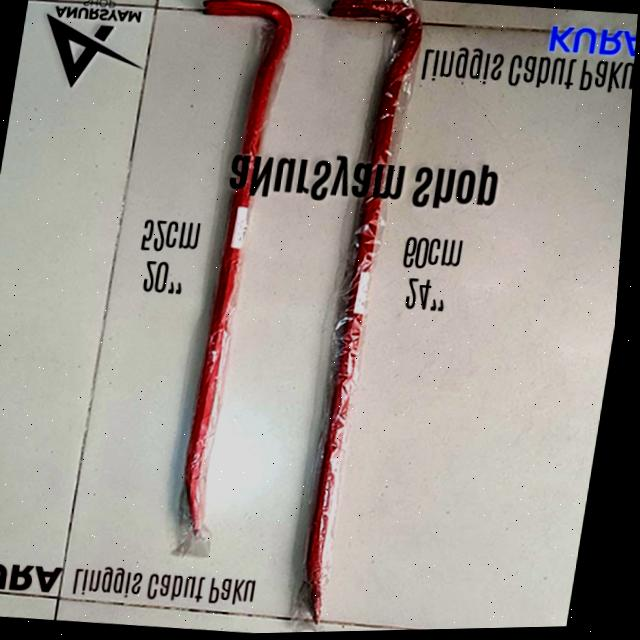crow bar: (293, 0, 430, 632), (170, 0, 308, 544)
